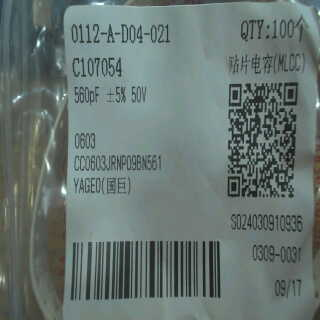560pF: (71, 84, 103, 107)
